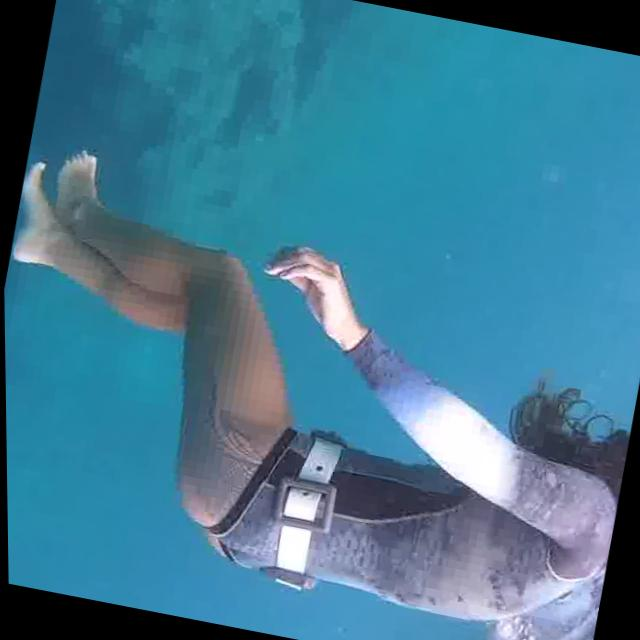human: (2, 133, 640, 640)
